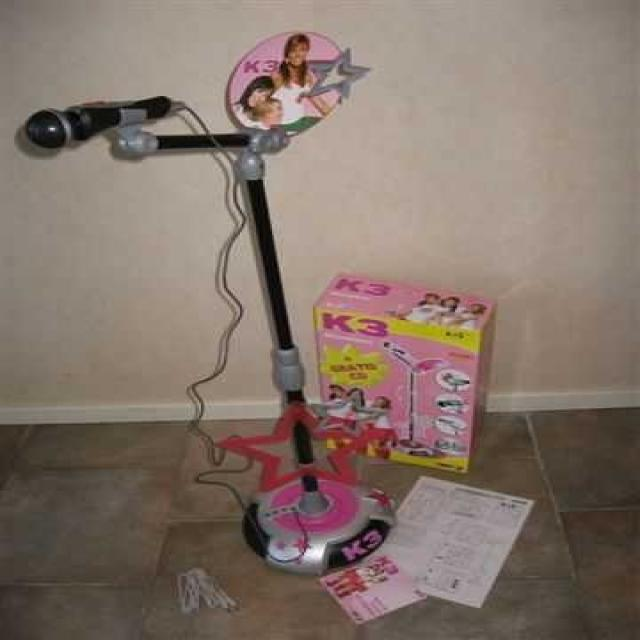microphone: (15, 95, 205, 160)
